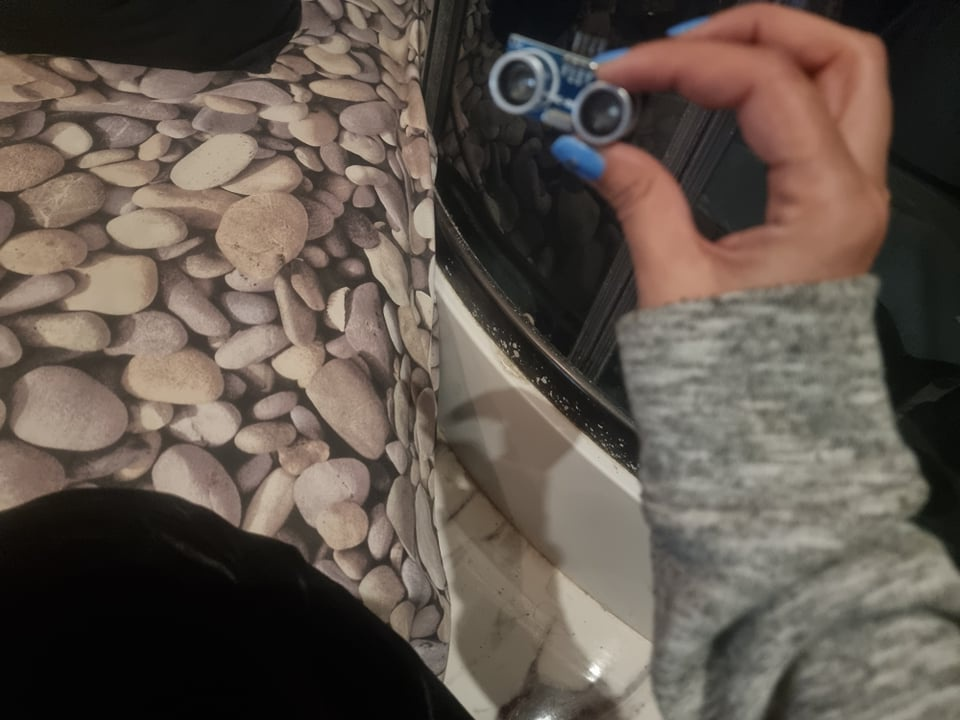SENSOR: (482, 45, 649, 145)
